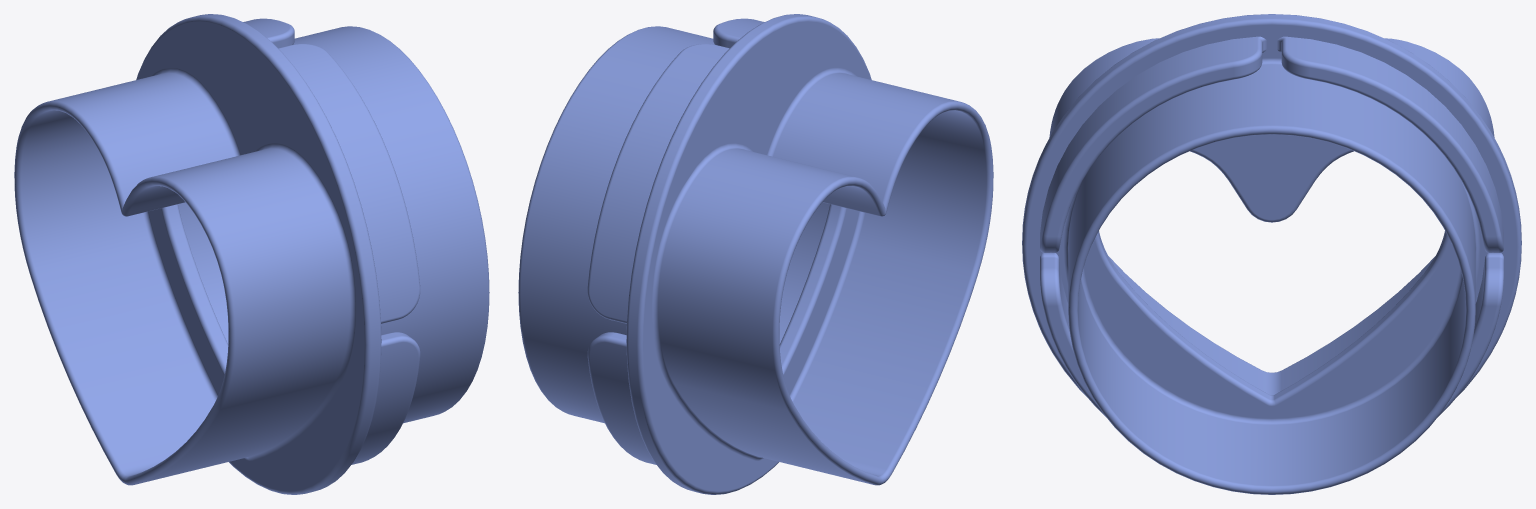
File: 241218 - tchibo - 4 in 1 rolling pin-L.glb
The picture shows the model from 3 angles, left to right: view 1: azimuth 30°, elevation 25°; view 2: azimuth 150°, elevation 25°; view 3: azimuth 270°, elevation 25°; orthographic projection.
Parts seen in each view (by area): view 1: Fillet7; view 2: Fillet7; view 3: Fillet7.
Boxes of the visible parts, x1=… form: Fillet7: x1=14, y1=14, x2=489, y2=494; Fillet7: x1=518, y1=14, x2=993, y2=494; Fillet7: x1=1022, y1=14, x2=1521, y2=494.
Size of the model in its own units: 0.033 by 0.052 by 0.052.
